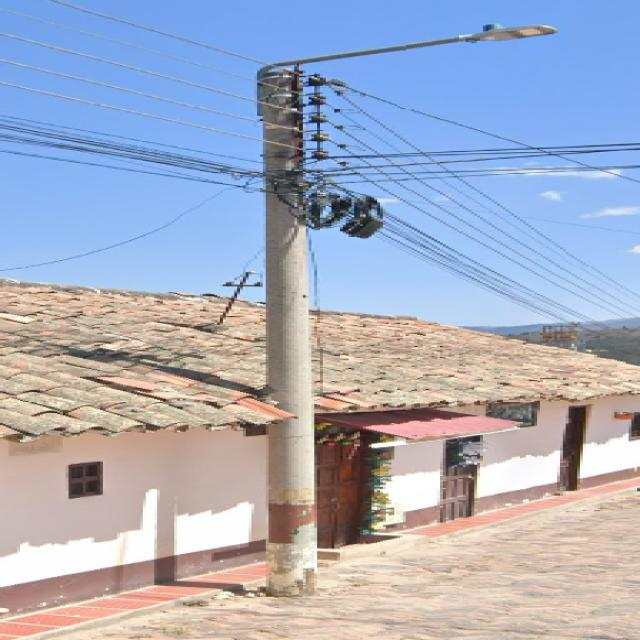Fachada: (3, 279, 640, 609)
Poste: (260, 24, 557, 596)
